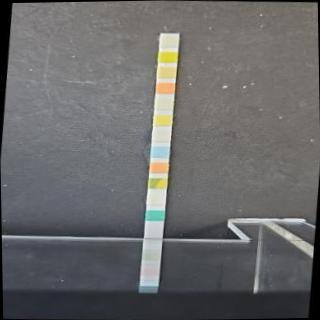mark: (153, 114, 171, 128), (157, 66, 175, 80), (149, 161, 168, 174), (160, 36, 178, 49), (151, 146, 169, 158), (154, 98, 172, 110), (156, 82, 174, 94), (158, 51, 176, 63), (148, 178, 166, 189), (152, 131, 170, 142), (147, 194, 164, 205), (146, 210, 164, 220)
